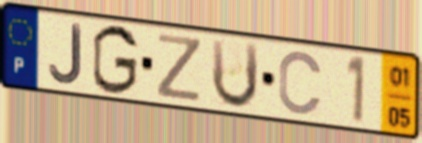1: (344, 55, 366, 128)
C: (276, 48, 325, 118)
G: (90, 22, 141, 98)
J: (47, 21, 84, 87)
U: (209, 36, 261, 111)
Z: (154, 31, 205, 105)
